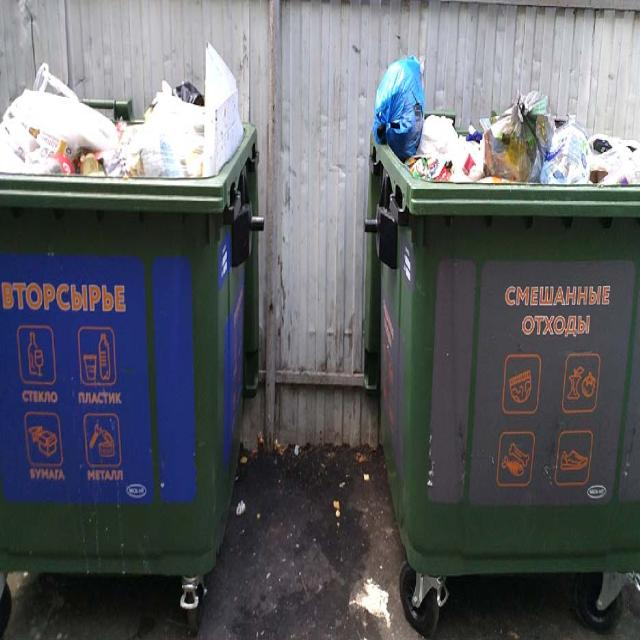bin: (0, 121, 265, 633), (371, 141, 639, 576)
trash: (370, 30, 640, 186), (0, 42, 245, 181)
